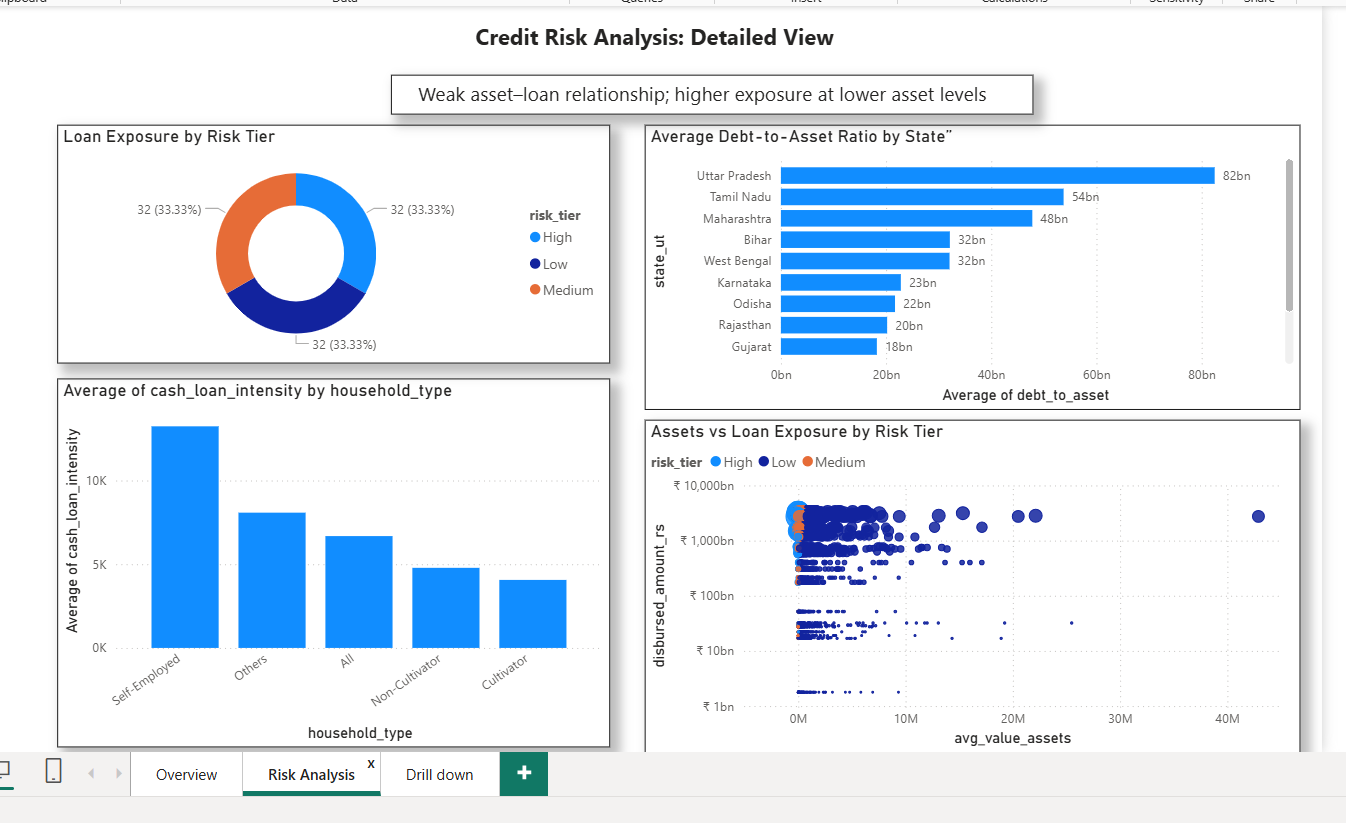

The page's visual inventory and layout, read from the dashboard file:
{"tool":"powerbi","page":{"name":"Risk Analysis","canvas":[1280,720],"ordinal":1},"visuals":[{"type":"clusteredBarChart","title":"Average Debt-to-Asset Ratio by State”","fields":{"Category":["Sheet1.state_ut"],"Y":["Avg(Sheet1.debt_to_asset)"]},"box":[626.2,115,632.5,275],"z":0},{"type":"clusteredColumnChart","fields":{"Category":["Sheet1.household_type"],"Y":["Avg(Sheet1.cash_loan_intensity)"]},"box":[58.8,360,533.8,356.2],"z":1000},{"type":"donutChart","title":"Loan Exposure by Risk Tier","fields":{"Category":["Sheet1.risk_tier"],"Y":["Count(Sheet1.state_ut)"]},"box":[58.8,115,533.8,230],"z":2000},{"type":"scatterChart","title":"Assets vs Loan Exposure by Risk Tier","fields":{"X":["Sheet1.avg_value_assets"],"Y":["Sheet1.disbursed_amount_rs"],"Size":["Sum(Sheet1.loan_accounts)"],"Series":["Sheet1.risk_tier"]},"box":[626.2,398.8,632.5,321.2],"z":2001},{"type":"textbox","box":[381.2,66.2,620,38.8],"z":2002},{"type":"textbox","box":[428.8,10,495,41.2],"z":2003}]}

Visuals, with their boxes in screenshot pixels (x1, y1, x2, y2):
"Average Debt-to-Asset Ratio by State”" clusteredBarChart: (642,123,1298,408)
clusteredColumnChart - Sheet1.household_type x Avg(Sheet1.cash_loan_intensity): (54,377,608,746)
"Loan Exposure by Risk Tier" donutChart: (54,123,608,361)
"Assets vs Loan Exposure by Risk Tier" scatterChart: (642,417,1298,750)
textbox: (388,72,1031,112)
textbox: (438,14,951,57)
